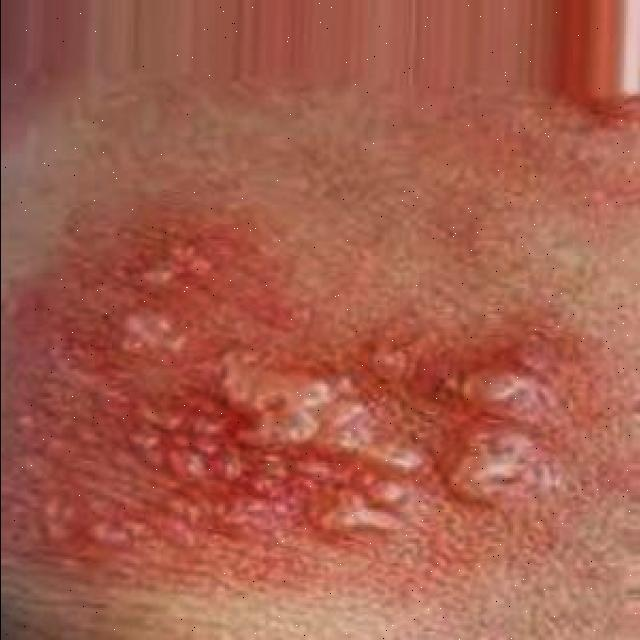Shingles: (29, 243, 563, 569)
